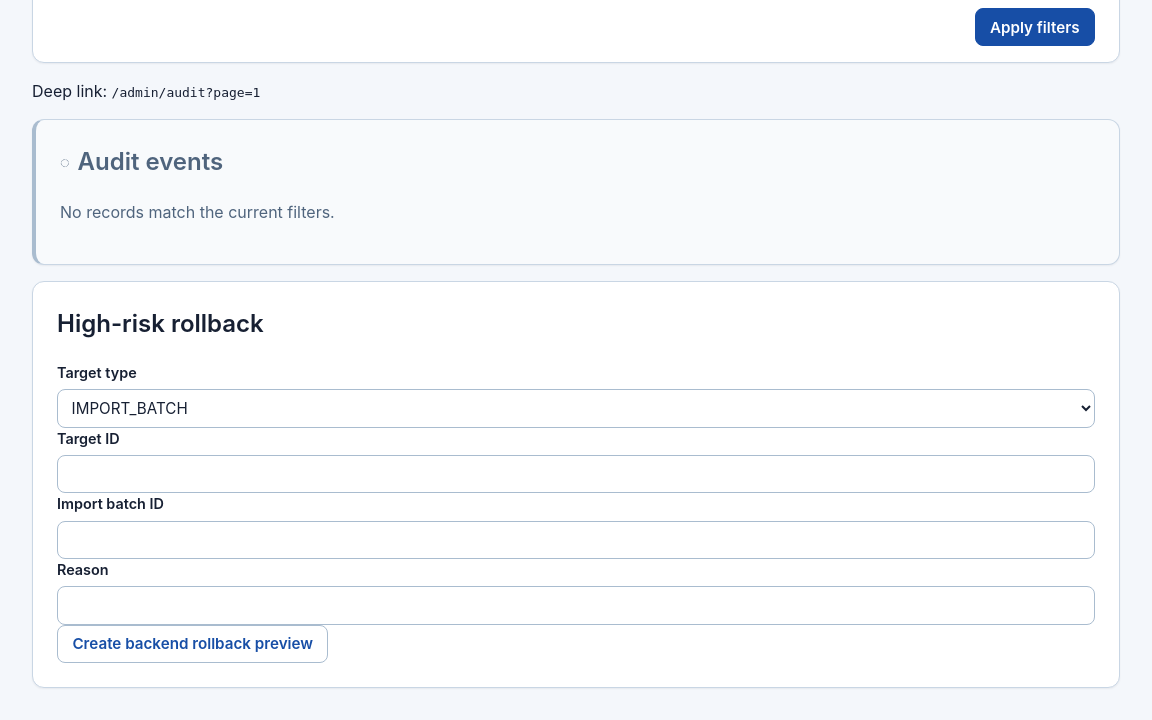
Test: audit history and rollback workflows › handles stale preview and role boundaries safely
(page scrolled)
Click the button "Create backend rollback preview".
click(193, 644)  # box x1=57 y1=624 x2=328 y2=663
(page scrolled)
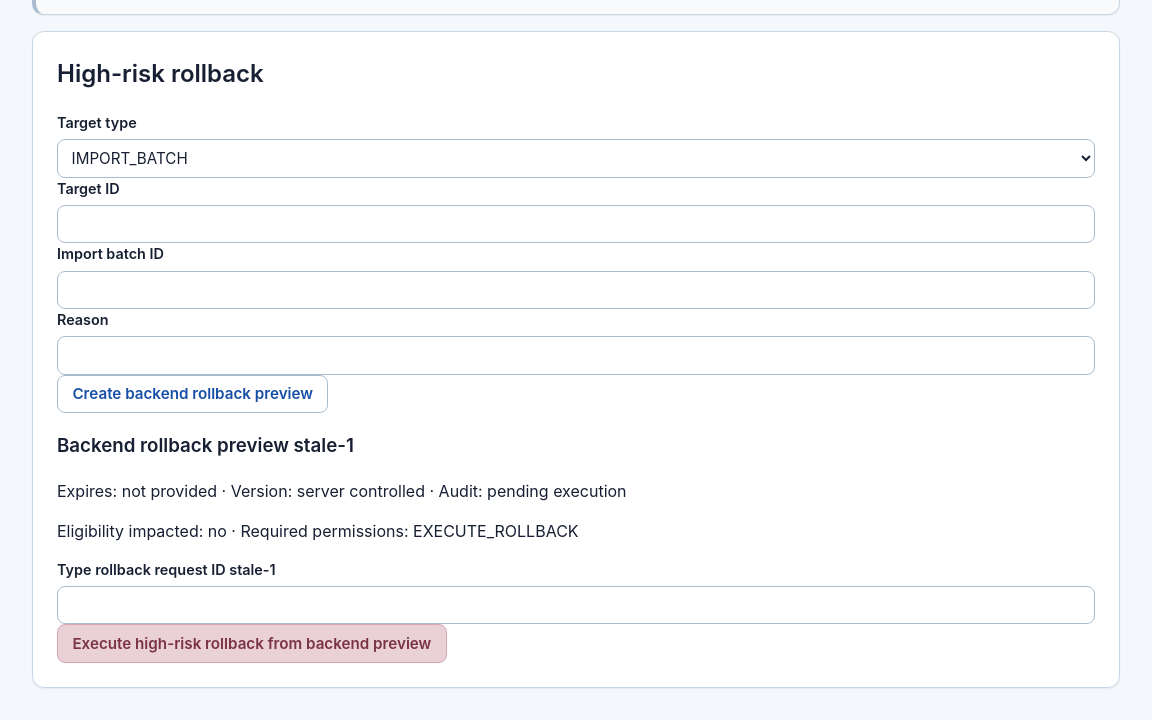
Expected: the button "Execute high-risk rollback from backend preview" is disabled, x1=57 y1=624 x2=447 y2=663
